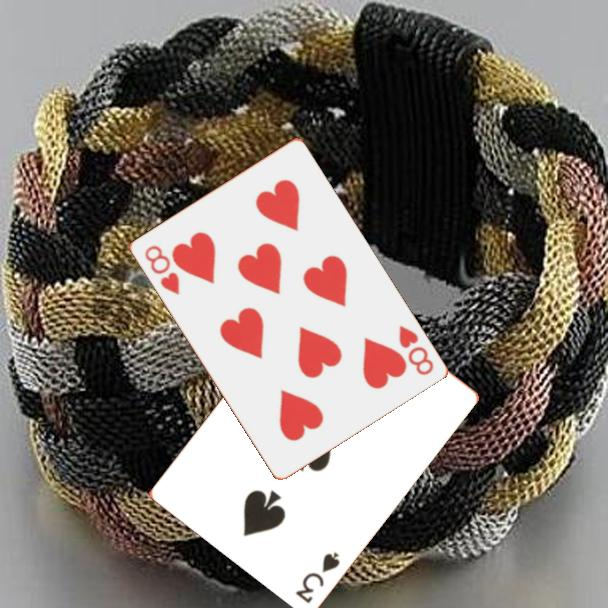h08: (140, 241, 182, 298), (395, 322, 436, 378)
s03: (292, 548, 343, 606)
